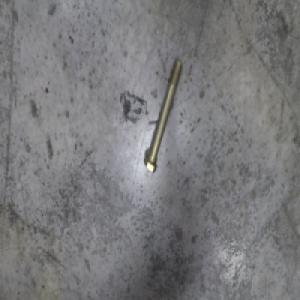Bolt: (143, 58, 186, 173)
